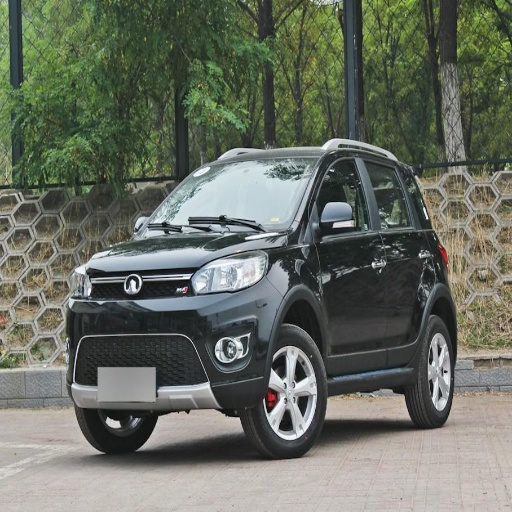front_bumper: (67, 266, 282, 410)
front_glass: (149, 156, 314, 231)
front_left_door: (309, 148, 386, 374)
